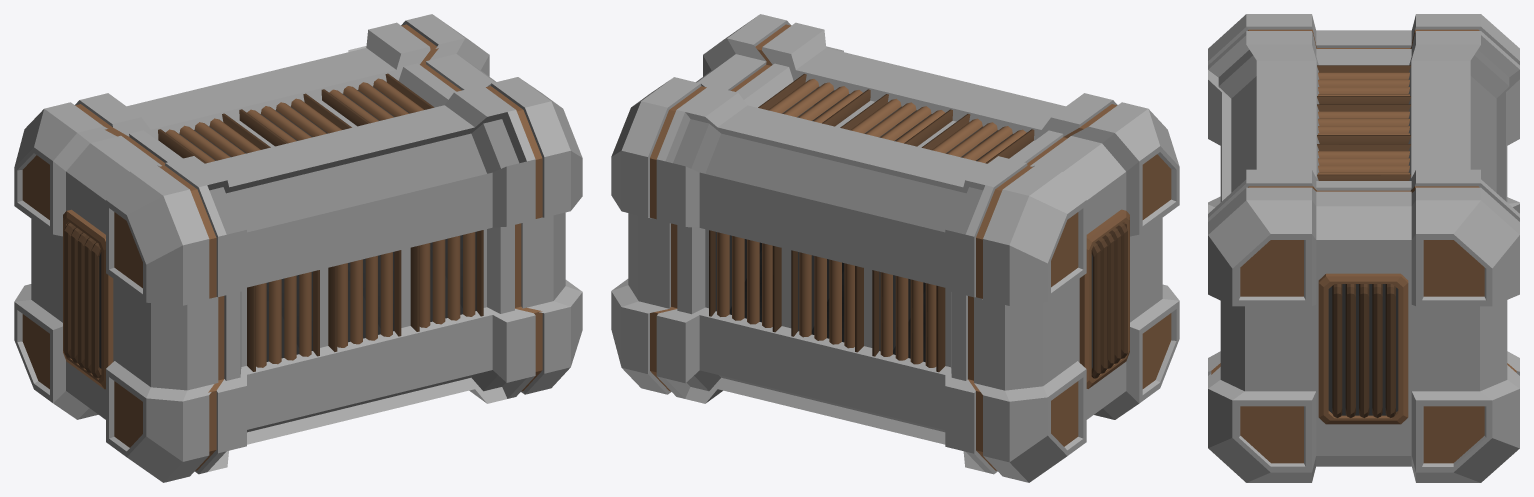
File: CrateLong.fbx
3 renders of one model, left to right at view 1: azimuth 30°, elevation 25°; view 2: azimuth 150°, elevation 25°; view 3: azimuth 270°, elevation 25°, orthographic.
Visible parts, largest first — view 1: Props_CrateLong.002; view 2: Props_CrateLong.002; view 3: Props_CrateLong.002.
Part boxes in pixels (bbox=[...]): Props_CrateLong.002: bbox=[14, 14, 582, 482]; Props_CrateLong.002: bbox=[611, 14, 1179, 482]; Props_CrateLong.002: bbox=[1208, 14, 1519, 482].
Size of the model in its own units: 1.23 by 0.7698 by 0.7698.
